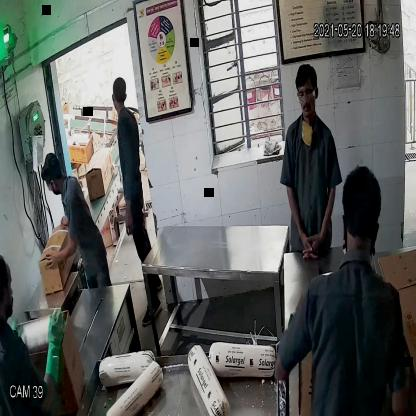goggles: (294, 88, 317, 104)
